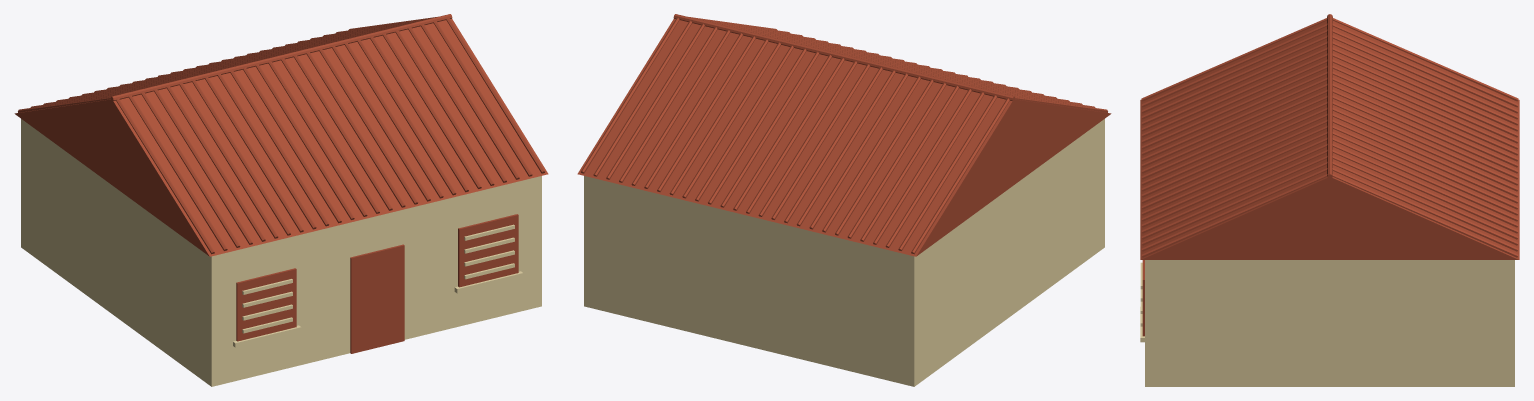
Rendered from house_a.glb.
The picture shows the model from 3 angles, left to right: view 1: azimuth 30°, elevation 25°; view 2: azimuth 150°, elevation 25°; view 3: azimuth 270°, elevation 25°; orthographic projection. The views are drawn at different scales.
Parts seen in each view (by area): view 1: house_a; view 2: house_a; view 3: house_a.
Boxes of the visible parts, box(x1,y1,x2,y2) form: house_a: box(14, 14, 548, 386); house_a: box(577, 14, 1111, 386); house_a: box(1140, 14, 1519, 386).
Size of the model in its own units: 8 by 5 by 8.
